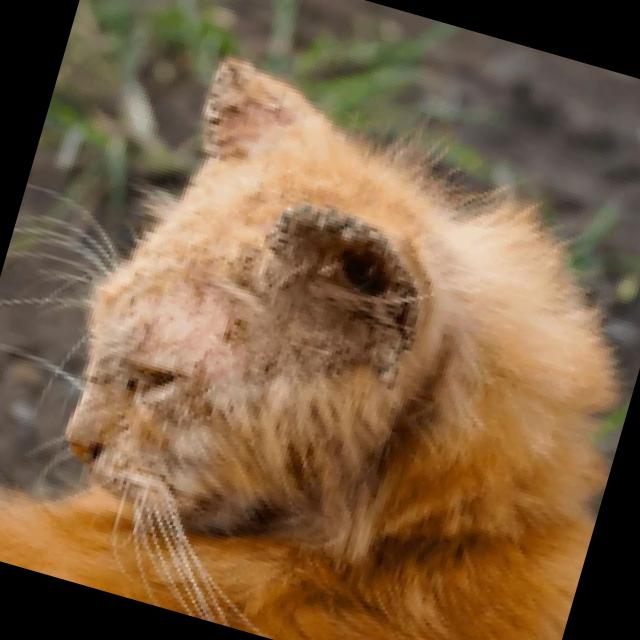Mange: (261, 205, 428, 376), (190, 52, 276, 161), (212, 304, 276, 360), (114, 359, 164, 404)
